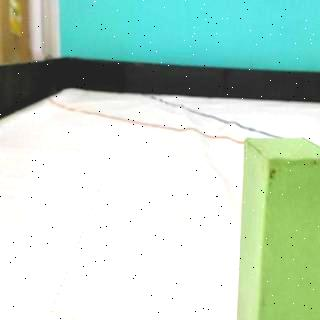greenbox: (237, 135, 320, 320)
